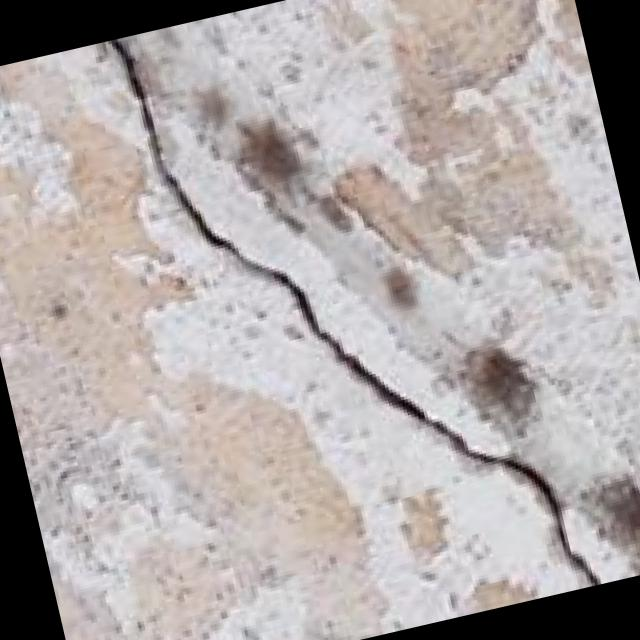crack: (102, 0, 619, 640)
